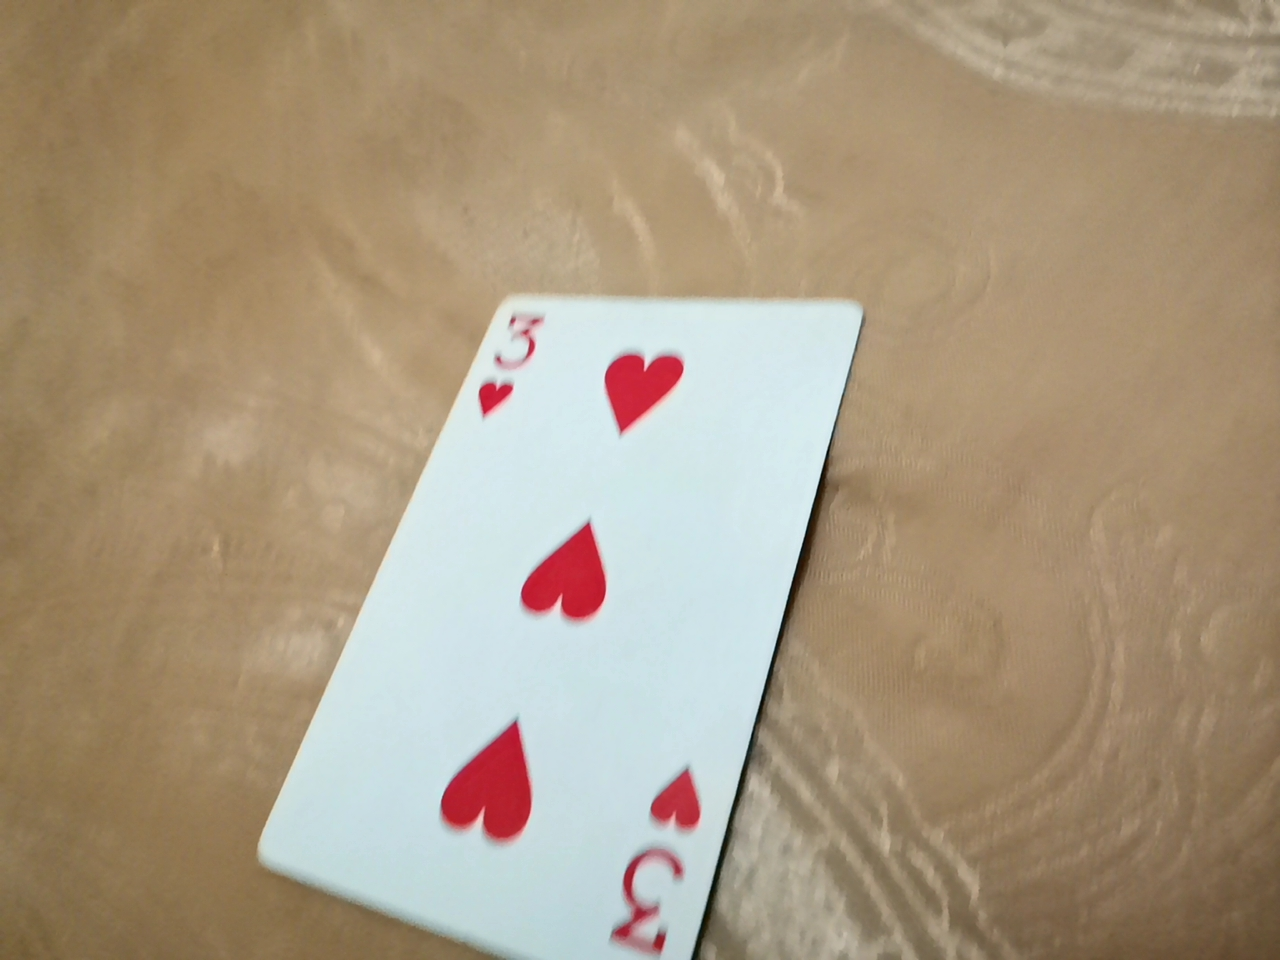hx 3: (269, 310, 849, 960)
